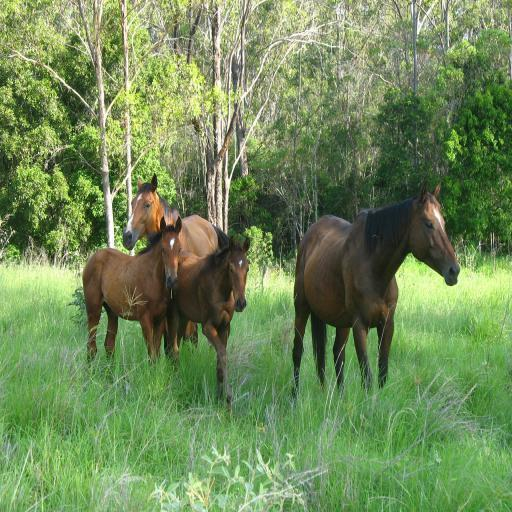horse: (294, 182, 460, 396), (124, 174, 233, 350), (164, 230, 252, 408), (82, 216, 183, 367)
